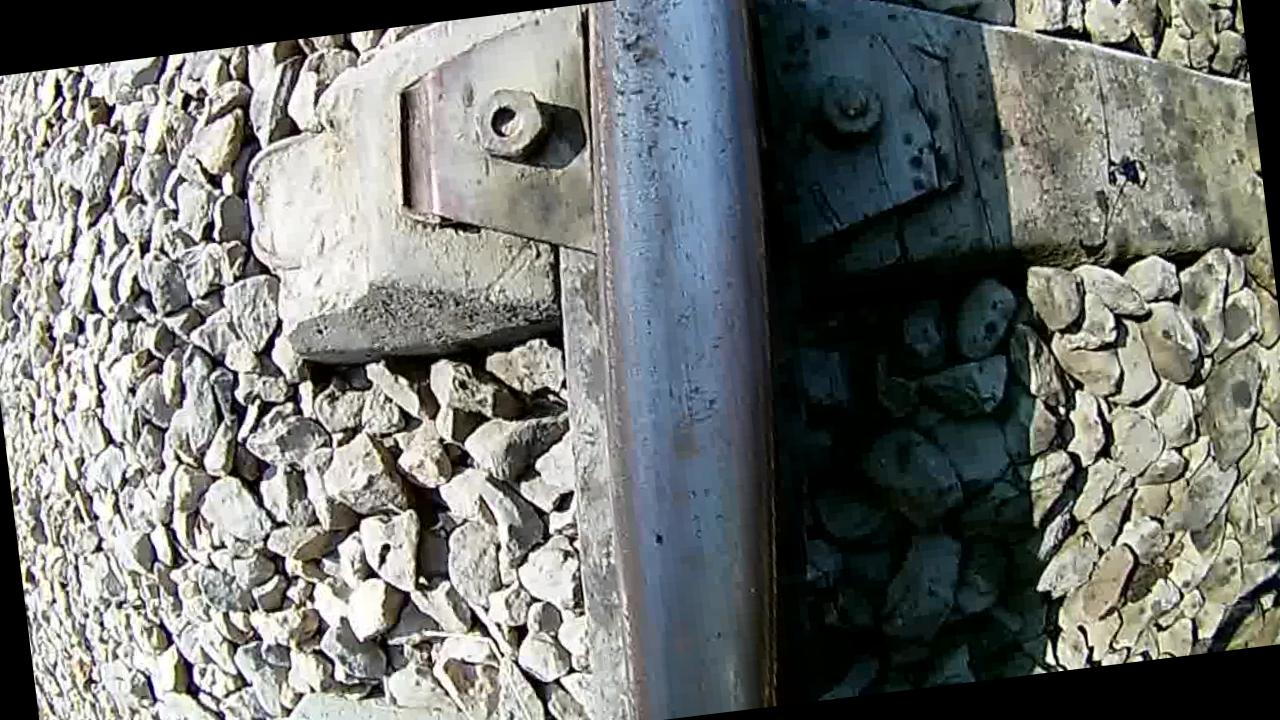crack: (550, 0, 829, 720)
